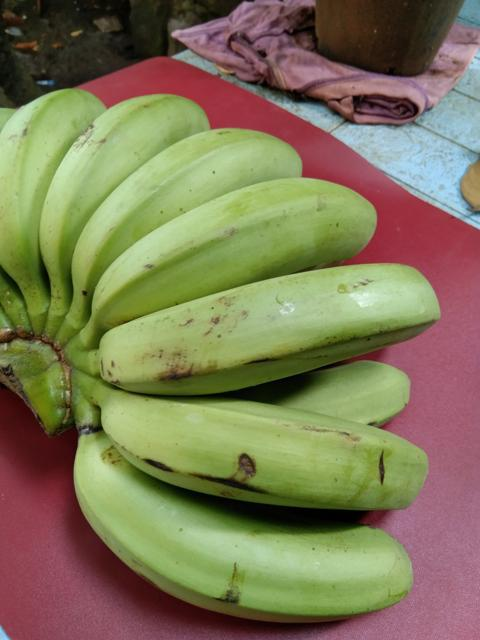freshunripe: (66, 437, 426, 625), (94, 172, 382, 330), (75, 118, 314, 291), (0, 65, 121, 296)
unripe: (78, 389, 444, 527), (96, 249, 449, 391)
